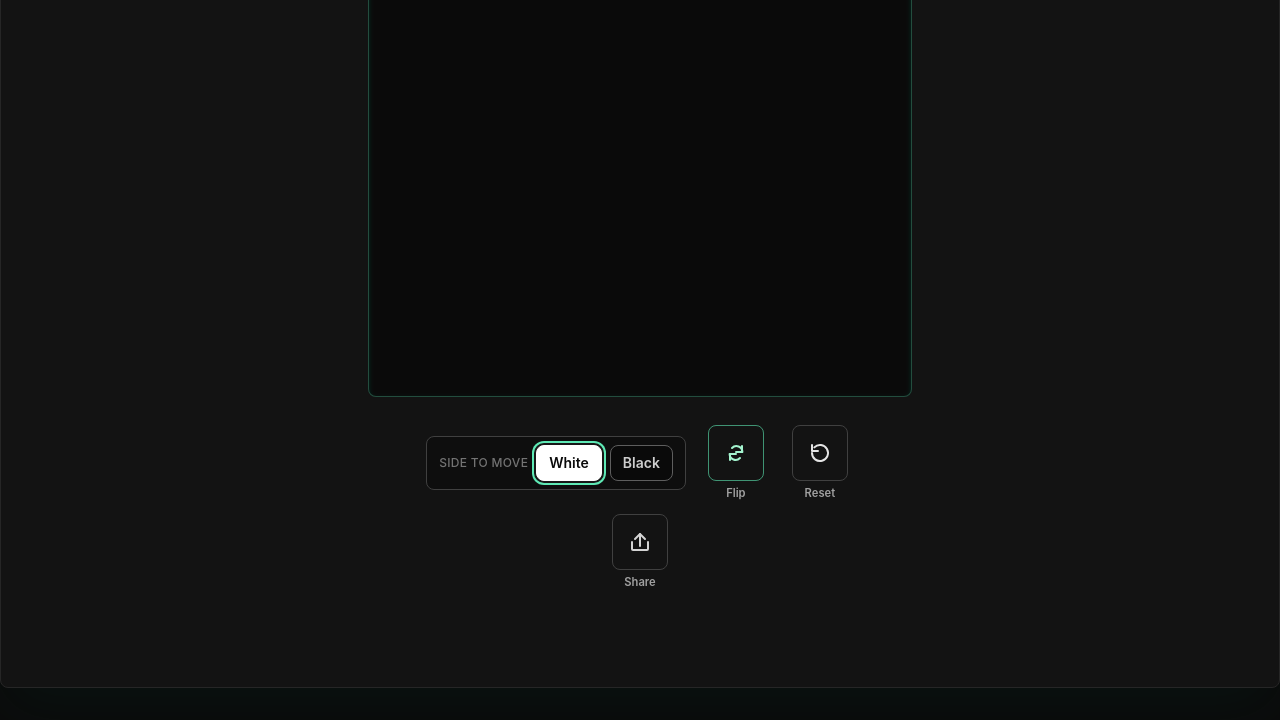
App › shows an error state when share creation fails
(page scrolled)
Click the button named "Share". click: point(640, 542)
box: [612, 514, 668, 570]
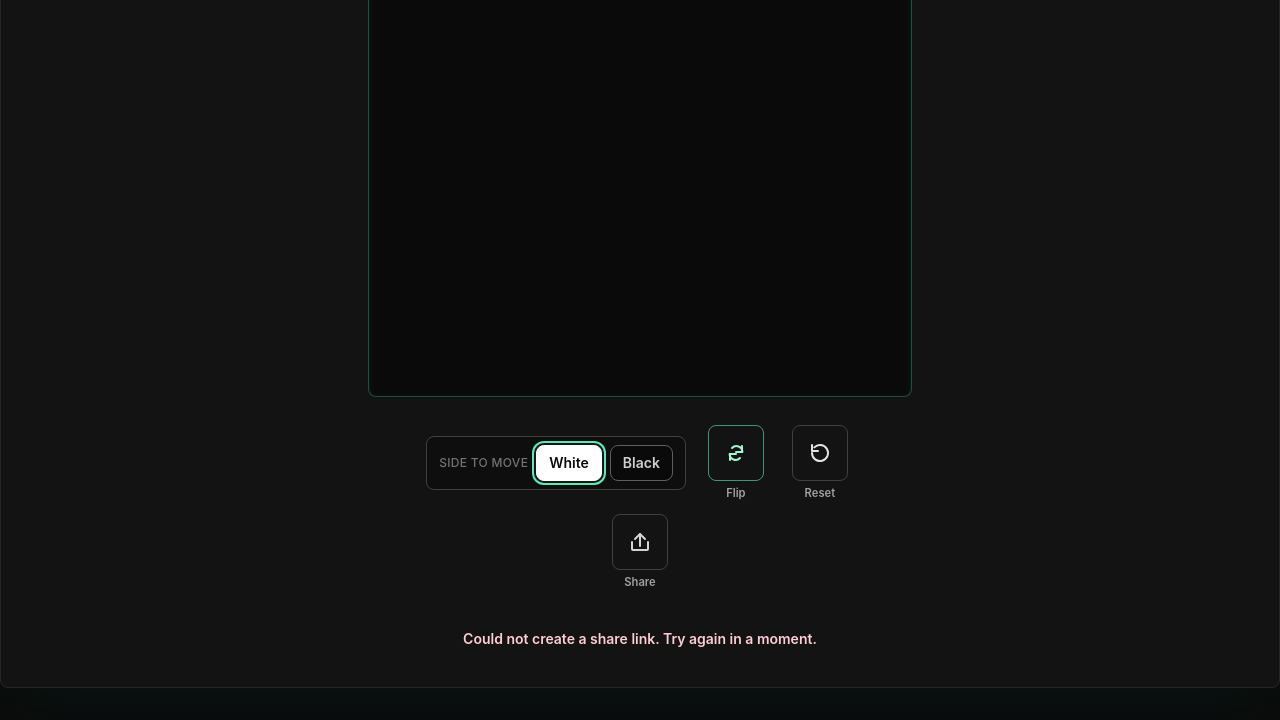
Expected: the message reads "Could not create a share link. Try again in a moment.", [463, 630, 817, 647]
